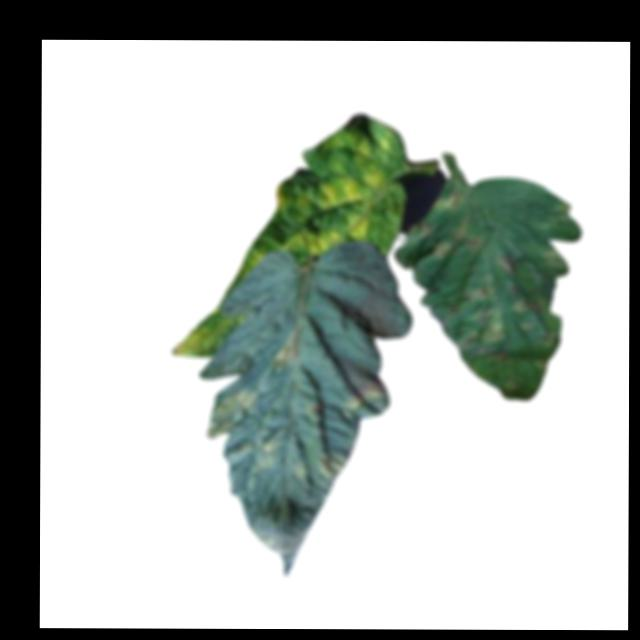Leaf_Mold: (296, 174, 386, 256), (205, 388, 255, 438), (435, 214, 483, 261), (336, 373, 390, 414), (239, 430, 281, 469), (474, 304, 507, 350), (509, 285, 548, 319), (272, 325, 301, 368), (427, 176, 467, 207), (172, 327, 209, 359), (317, 451, 349, 481), (495, 252, 524, 279), (540, 248, 566, 275), (271, 185, 287, 210)
